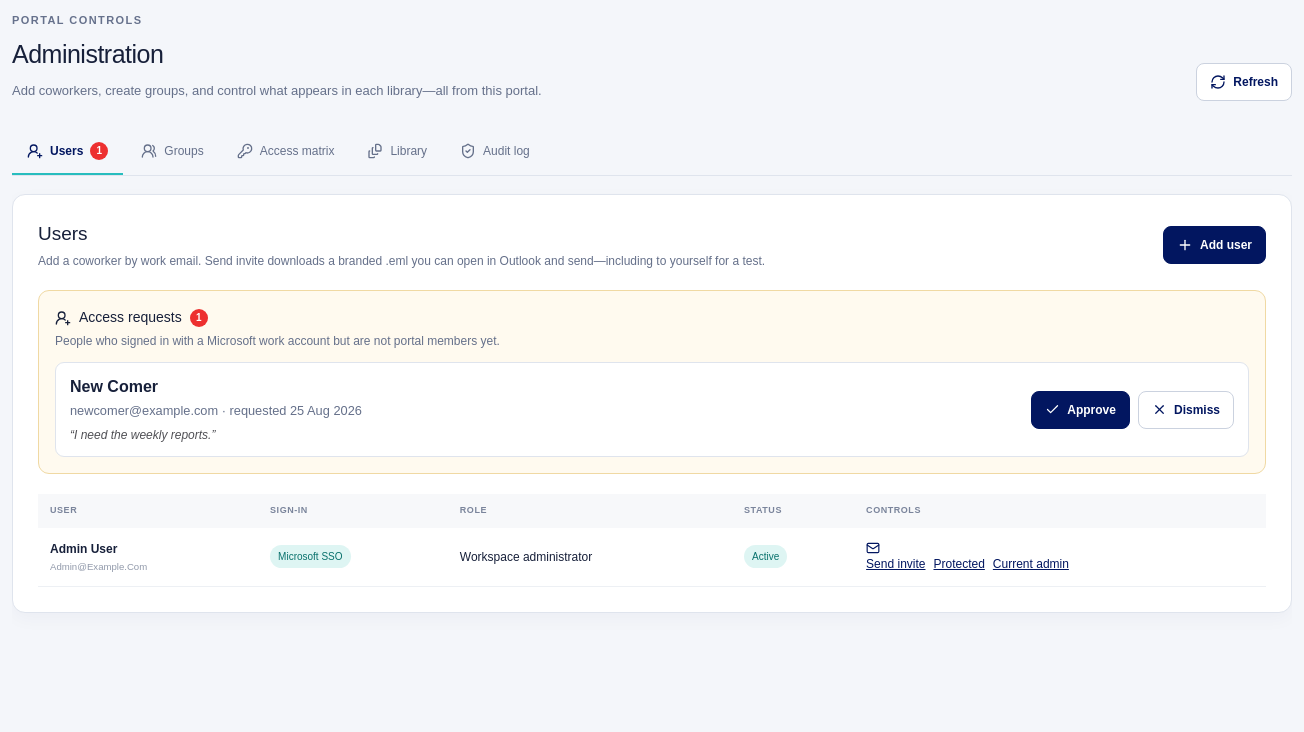
Test: AdminPage access changes › approves a pending access request and grants portal access
Check: the text "New Comer" is shown, box [70,378,158,395]
Check: the tab with aria-label "Users, 1 pending access request" is shown, box [12,128,123,174]
Click the button "Approve": [1081, 410] box [1031,391,1130,429]
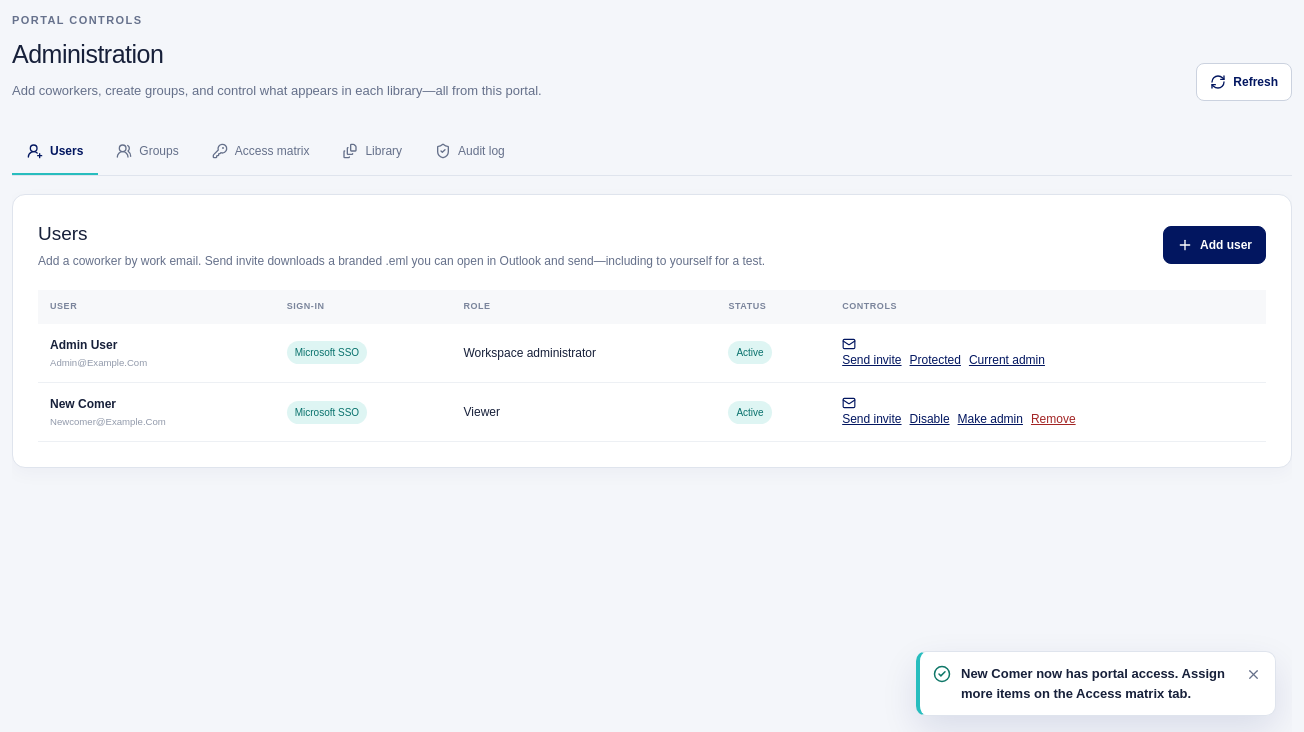
Check: the text "newcomer@example.com" is shown, box [50,416,166,427]
Check: the button "Approve" is gone
